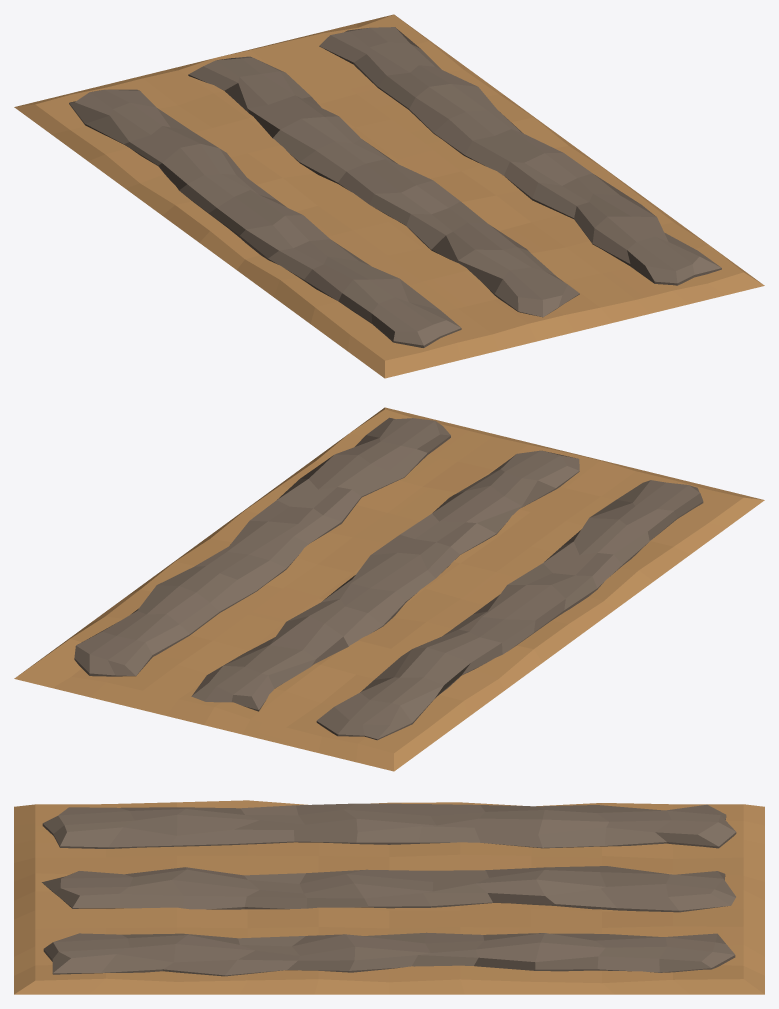
File: field_b.gltf
3 views of the same model, one above another, from view 1: azimuth 30°, elevation 25°; view 2: azimuth 150°, elevation 25°; view 3: azimuth 270°, elevation 25° (orthographic).
Visible parts, largest first — view 1: field_b001; view 2: field_b001; view 3: field_b001.
Boxes of the visible parts, bbox=[...] form: field_b001: bbox=[14, 14, 764, 378]; field_b001: bbox=[14, 407, 764, 771]; field_b001: bbox=[14, 800, 764, 994].
Bounding box in the file's own units: 3.01 × 0.1892 × 5.09.
Materials: 1 (1 with a texture image).
